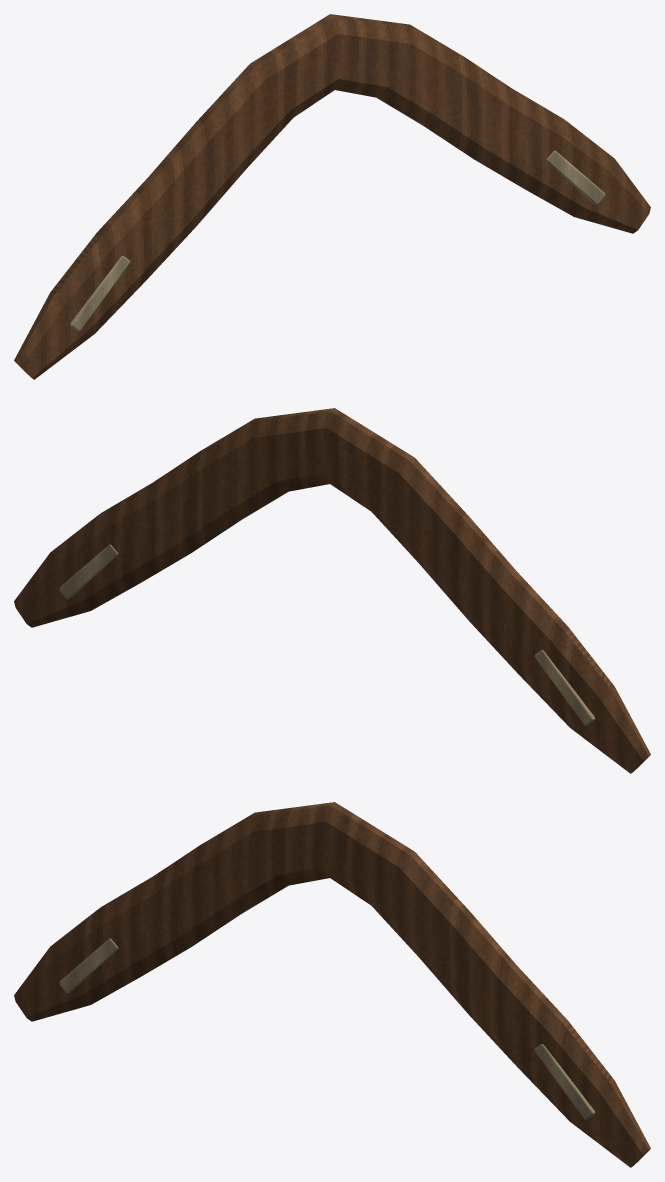
Rendered from boomerang.lod1.glb.
3 renders of one model, top to bottom at view 1: azimuth 30°, elevation 25°; view 2: azimuth 150°, elevation 25°; view 3: azimuth 330°, elevation 25°, orthographic.
Parts seen in each view (by area): view 1: wood / oiled hardwood, horn / polished horn and bone; view 2: wood / oiled hardwood, horn / polished horn and bone; view 3: wood / oiled hardwood, horn / polished horn and bone.
Boxes of the visible parts, x1,y1,x2,y2 form: wood / oiled hardwood: [14, 14, 650, 379]; horn / polished horn and bone: [69, 150, 605, 331]; wood / oiled hardwood: [14, 408, 650, 773]; horn / polished horn and bone: [59, 544, 595, 725]; wood / oiled hardwood: [14, 802, 650, 1167]; horn / polished horn and bone: [59, 938, 595, 1119].
Bounding box in the file's own units: 0.5771 × 0.2522 × 0.0205.
2 materials, 2 textured.
